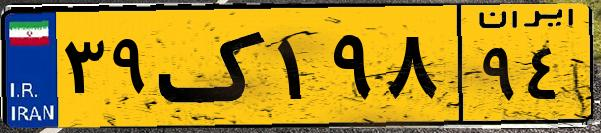1: (270, 28, 330, 110)
3: (57, 26, 110, 100)
4: (525, 38, 570, 115)
8: (385, 28, 445, 110)
9: (330, 28, 385, 110), (475, 38, 525, 113), (110, 28, 158, 98)
ک: (158, 12, 270, 120)
